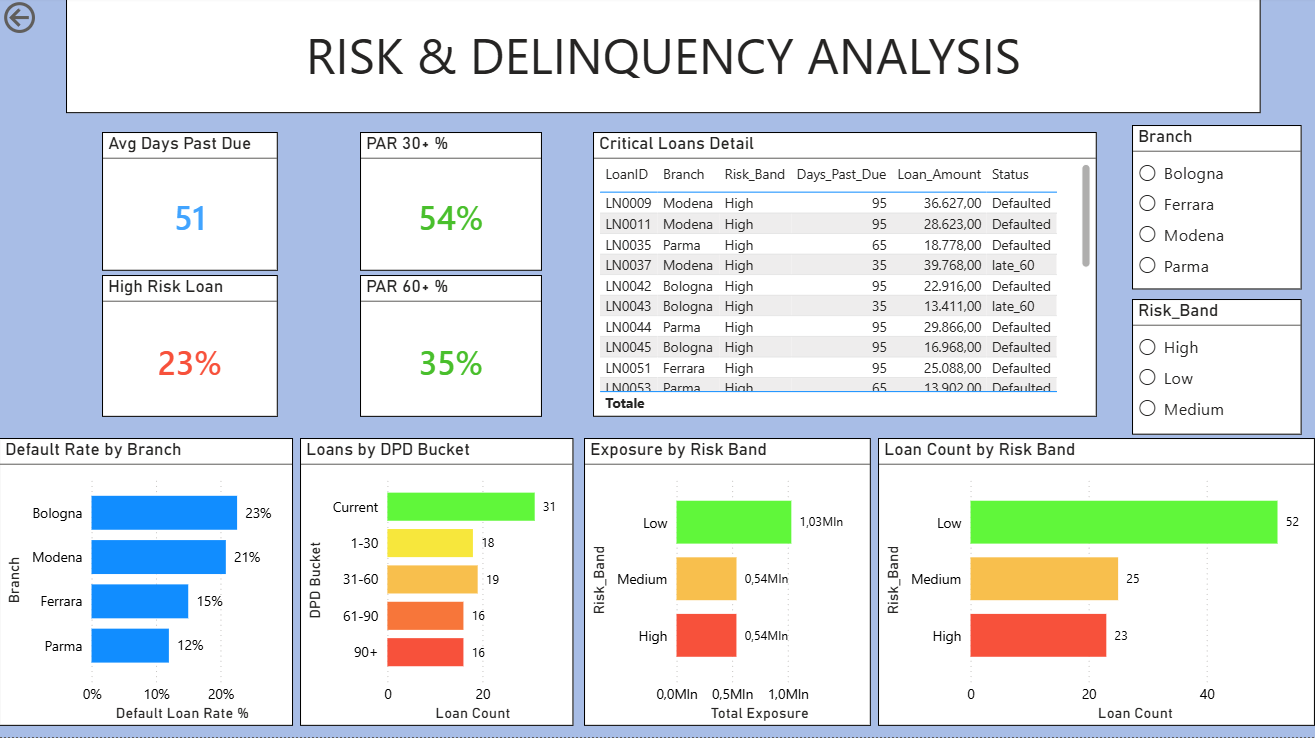

The page's visual inventory and layout, read from the dashboard file:
{"tool":"powerbi","page":{"name":"Risk & Delinquency Analysis","canvas":[1280,720],"ordinal":1},"visuals":[{"type":"clusteredBarChart","title":"Loans by DPD Bucket","fields":{"Y":["Dataset.Loan Count"],"Category":["Dataset.DPD Bucket"]},"box":[292.8,428.9,265.5,280.1],"z":0},{"type":"actionButton","box":[0,0,100,40],"z":1000},{"type":"clusteredBarChart","title":"Exposure by Risk Band","fields":{"Category":["Dataset.Risk_Band"],"Y":["Dataset.Total Exposure"]},"box":[569,428.9,279.1,280.1],"z":2000},{"type":"clusteredBarChart","title":"Loan Count by Risk Band","fields":{"Category":["Dataset.Risk_Band"],"Y":["Dataset.Loan Count"]},"box":[855,428.9,425,280.1],"z":3000},{"type":"clusteredBarChart","title":"Default Rate by Branch","fields":{"Category":["Dataset.Branch"],"Y":["Dataset.Default Loan Rate %"]},"box":[0,428.9,286,280.1],"z":4000},{"type":"cardVisual","title":"High Risk Loan","fields":{"Data":["Dataset.High Risk Loans %"]},"box":[100.2,270.4,171.2,138.1],"z":5000},{"type":"cardVisual","title":"PAR 30+ %","fields":{"Data":["Dataset.PAR 30+ %"]},"box":[351.1,131.3,177,135.2],"z":6000},{"type":"cardVisual","title":"PAR 60+ %","fields":{"Data":["Dataset.PAR 60+ %"]},"box":[351.1,270.4,177,138.1],"z":7000},{"type":"cardVisual","title":"Avg Days Past Due","fields":{"Data":["Dataset.Average DPD Delinquent"]},"box":[100.2,131.3,171.2,135.2],"z":8000},{"type":"textbox","box":[65.2,0,1162.3,112.8],"z":9000},{"type":"tableEx","title":"Critical Loans Detail","fields":{"Values":["Dataset.LoanID","Dataset.Branch","Dataset.Risk_Band","Dataset.Days_Past_Due","Dataset.Loan_Amount","Dataset.Status"]},"box":[577.8,131.3,490.2,277.2],"z":10000},{"type":"listSlicer","fields":{"Values":["Dataset.Branch"]},"box":[1102,124.5,165.3,159.5],"z":11000},{"type":"listSlicer","fields":{"Values":["Dataset.Risk_Band"]},"box":[1102,293.7,165.3,132.3],"z":12000}]}

Visuals, with their boxes in screenshot pixels (x1, y1, x2, y2):
"Loans by DPD Bucket" clusteredBarChart: box=[303, 435, 572, 718]
actionButton: box=[7, 0, 108, 41]
"Exposure by Risk Band" clusteredBarChart: box=[583, 435, 866, 718]
"Loan Count by Risk Band" clusteredBarChart: box=[873, 435, 1304, 718]
"Default Rate by Branch" clusteredBarChart: box=[7, 435, 297, 718]
"High Risk Loan" cardVisual: box=[108, 274, 282, 414]
"PAR 30+ %" cardVisual: box=[363, 133, 542, 270]
"PAR 60+ %" cardVisual: box=[363, 274, 542, 414]
"Avg Days Past Due" cardVisual: box=[108, 133, 282, 270]
textbox: box=[73, 0, 1250, 114]
"Critical Loans Detail" tableEx: box=[592, 133, 1089, 414]
listSlicer - Dataset.Branch: box=[1123, 126, 1291, 288]
listSlicer - Dataset.Risk_Band: box=[1123, 298, 1291, 432]
